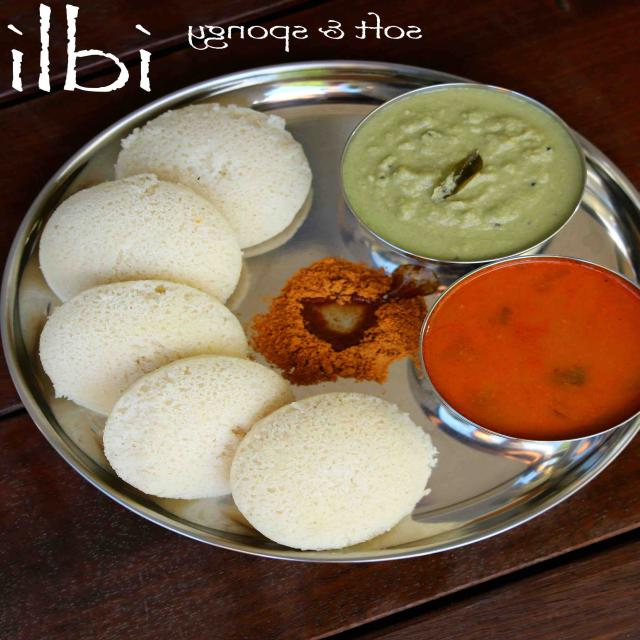chutney: (353, 89, 576, 259)
idli: (37, 109, 300, 533)
sambhar: (427, 261, 640, 447)
